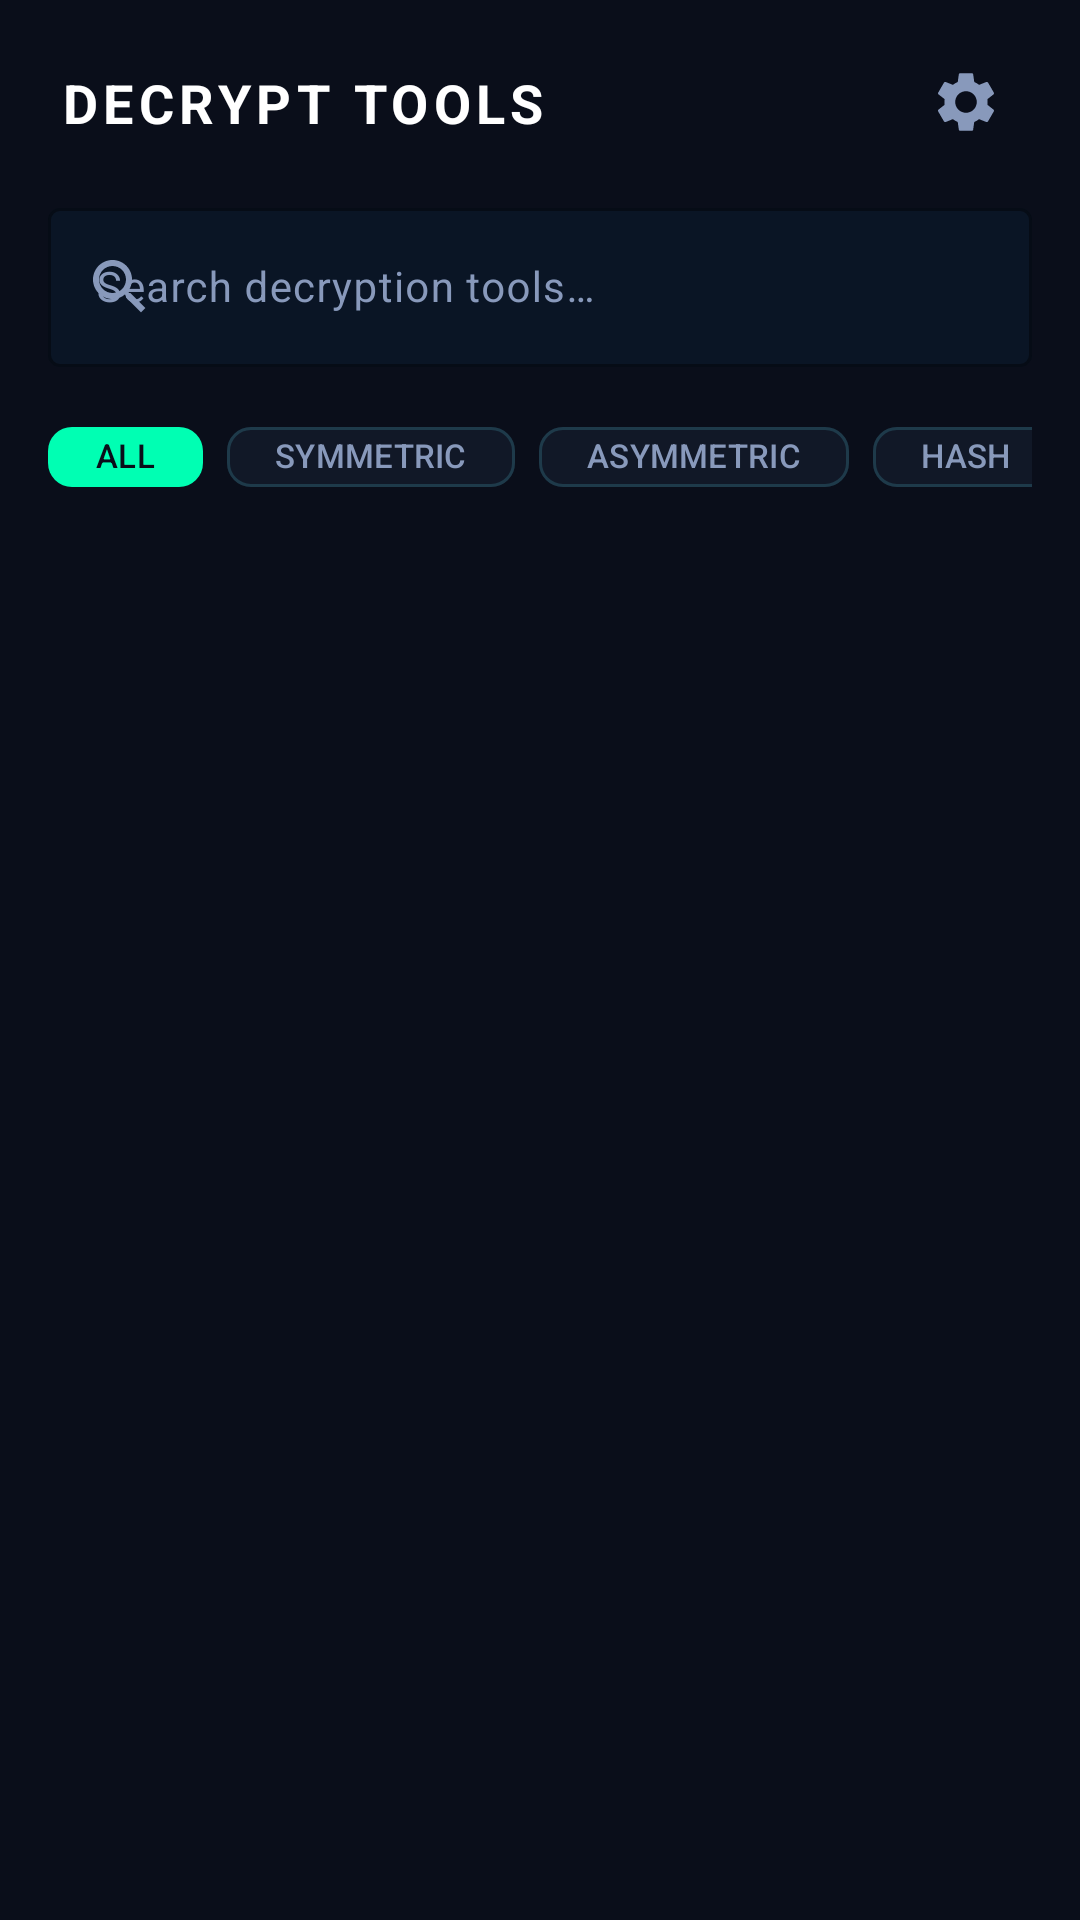

Icon click points for this 1080×1920 phone screenshot, format (x=x, y=y):
Settings: (x=966, y=102)
